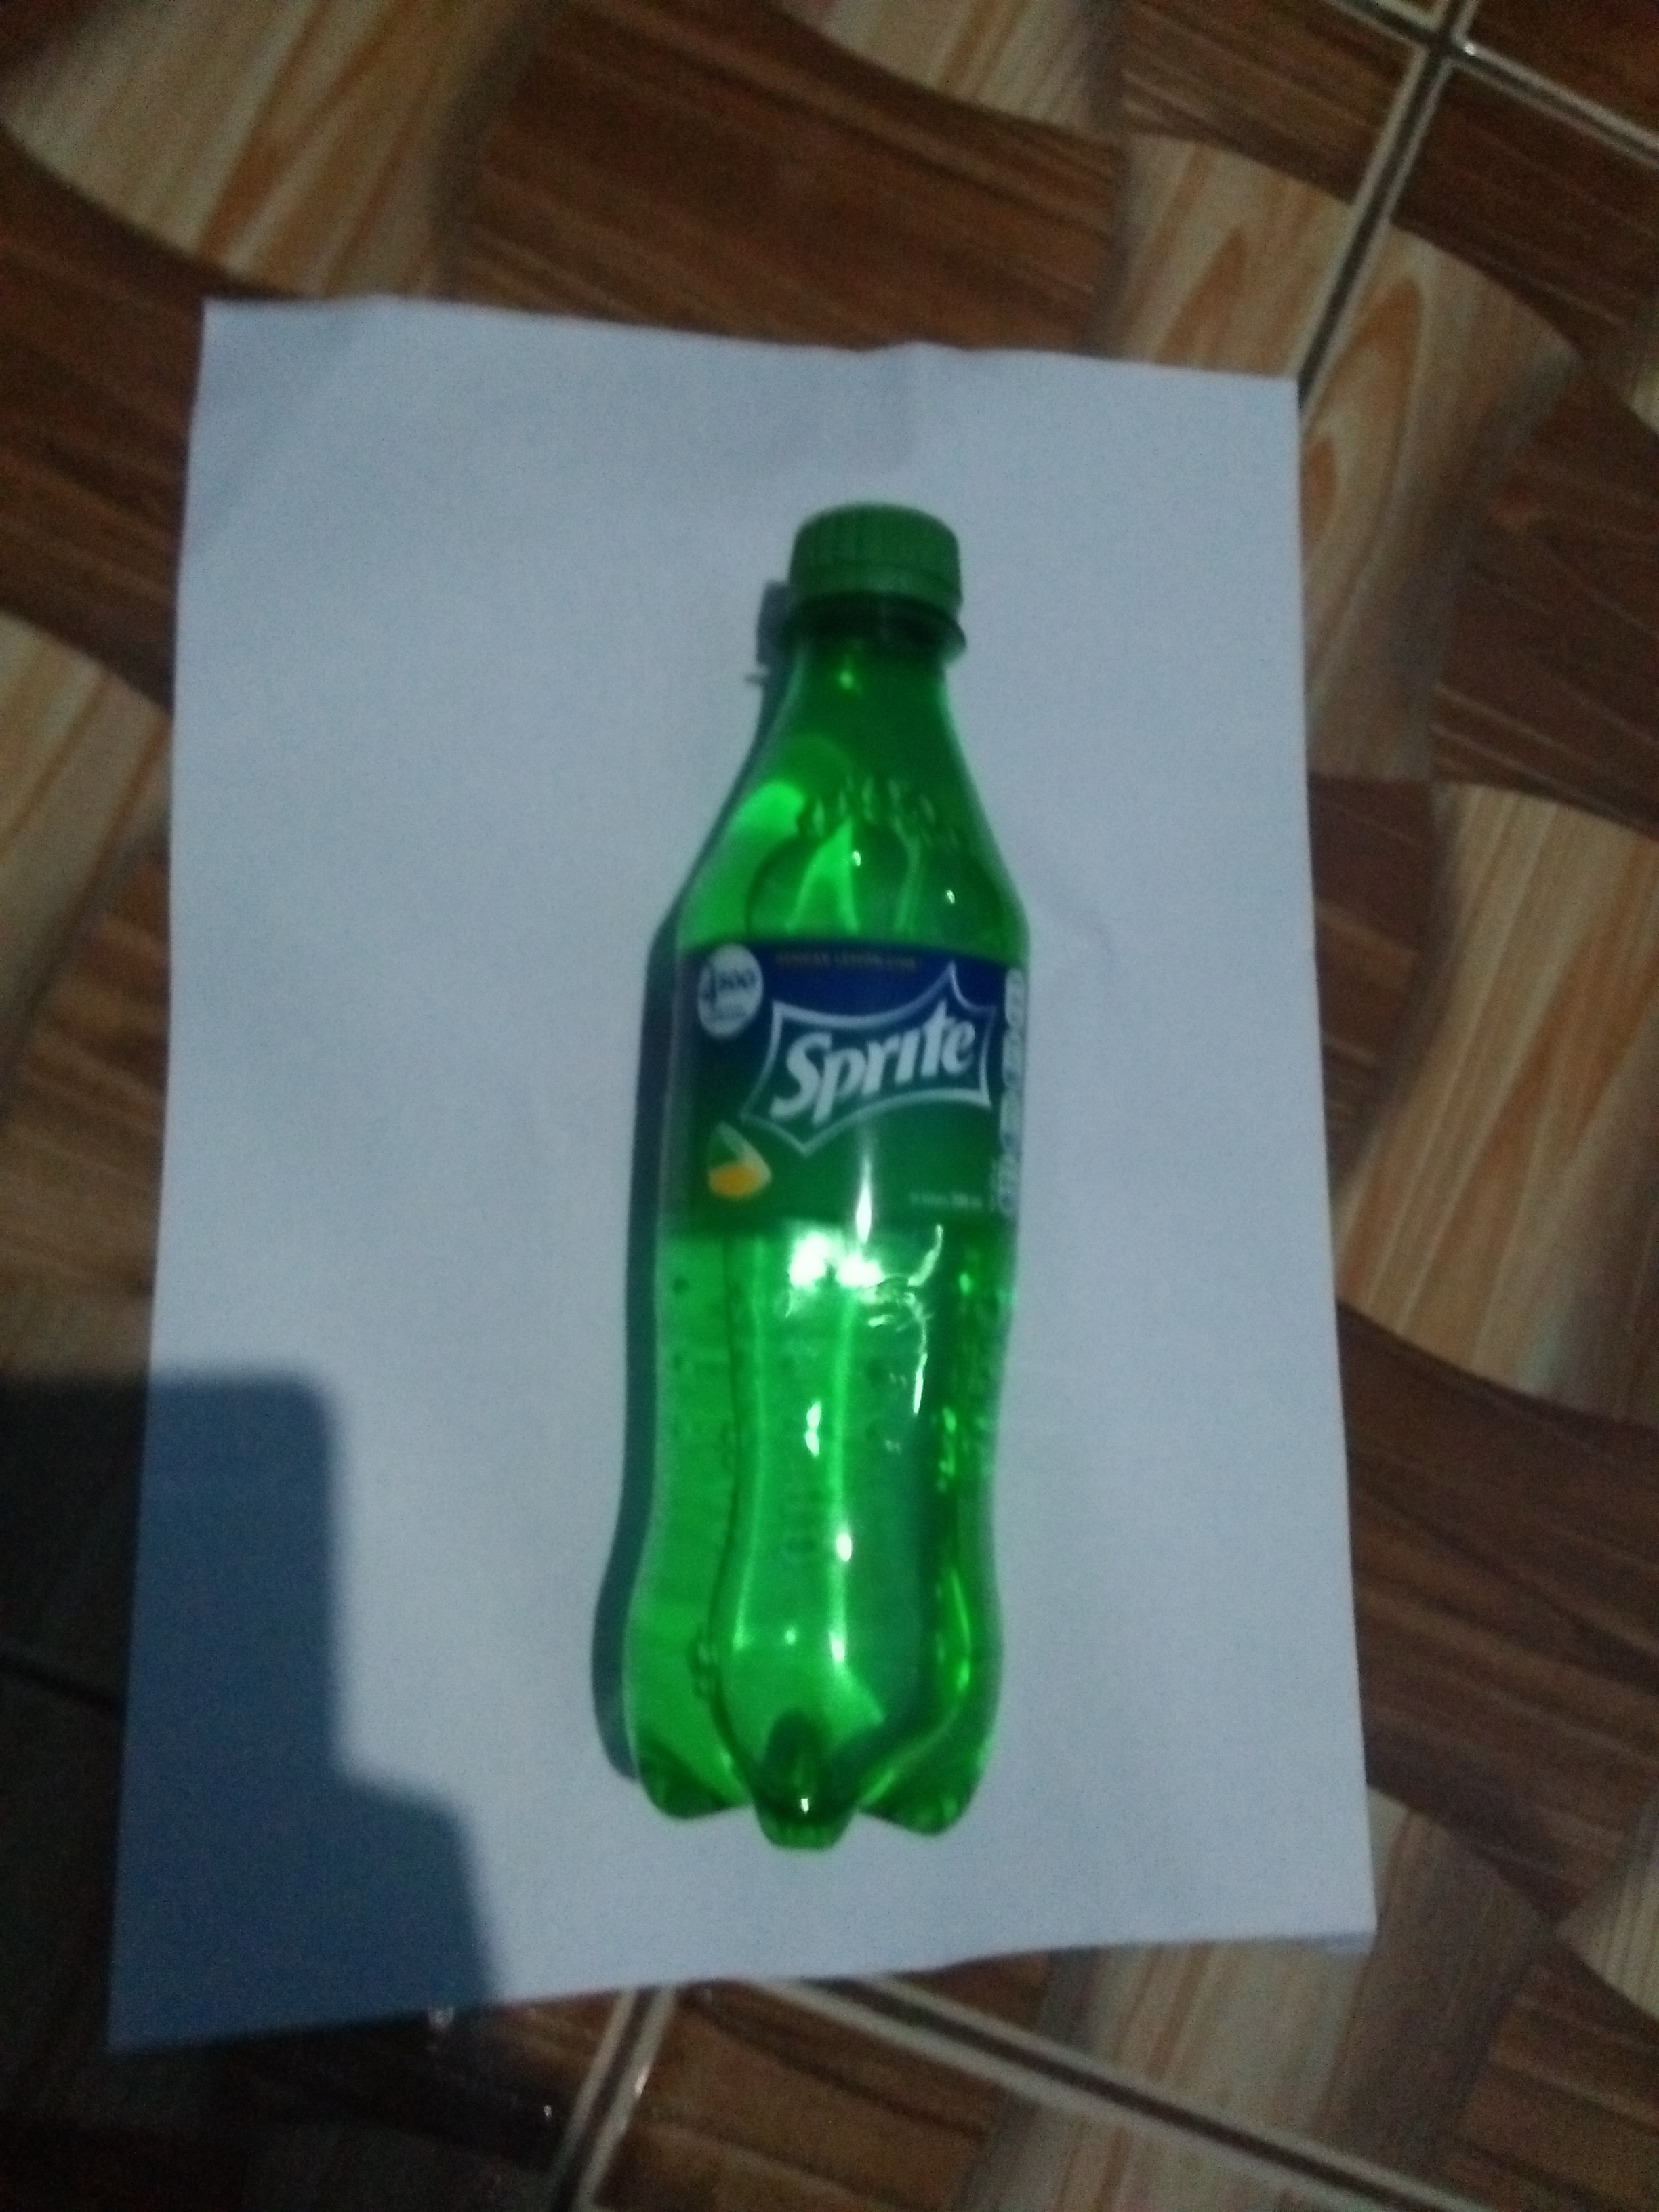Sprite: (601, 474, 1053, 1871)
